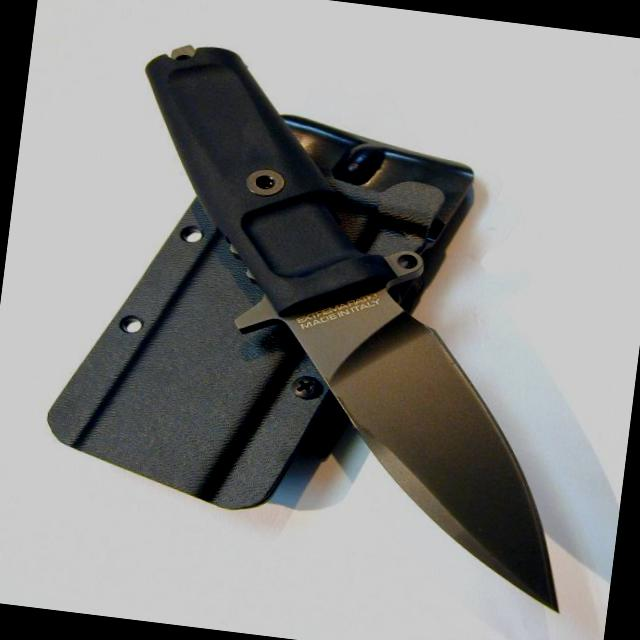knife: (246, 277, 602, 618)
